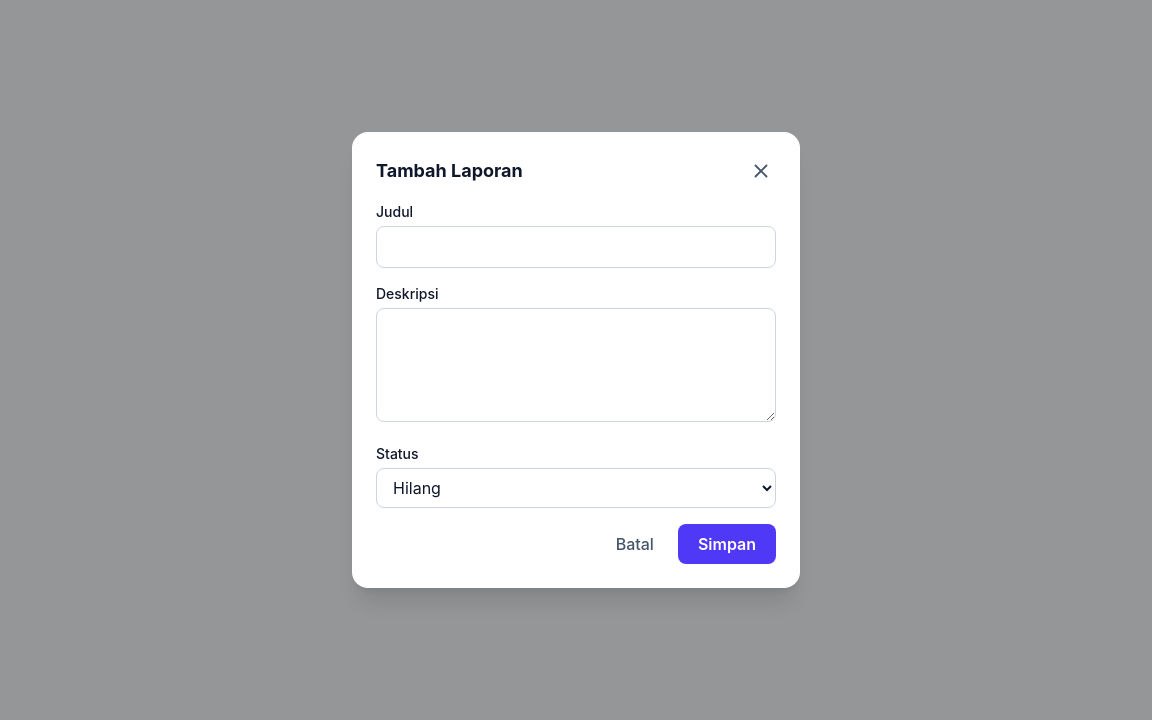
it: AddModal › menampilkan pesan error jika judul dan deskripsi kosong
Click the button "Simpan". click: [727, 544]
box: [678,524,776,564]
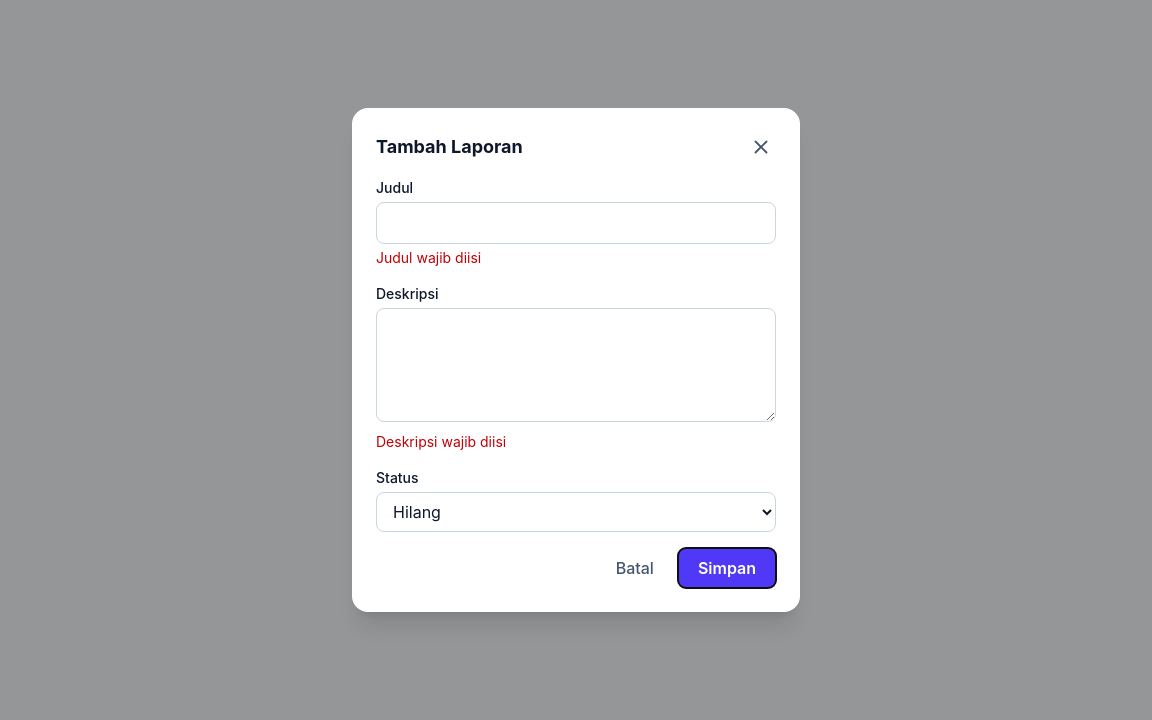
Check: the text "Judul wajib diisi" is shown, box [376,249,481,266]
Check: the text "Deskripsi wajib diisi" is shown, box [376,433,506,450]
